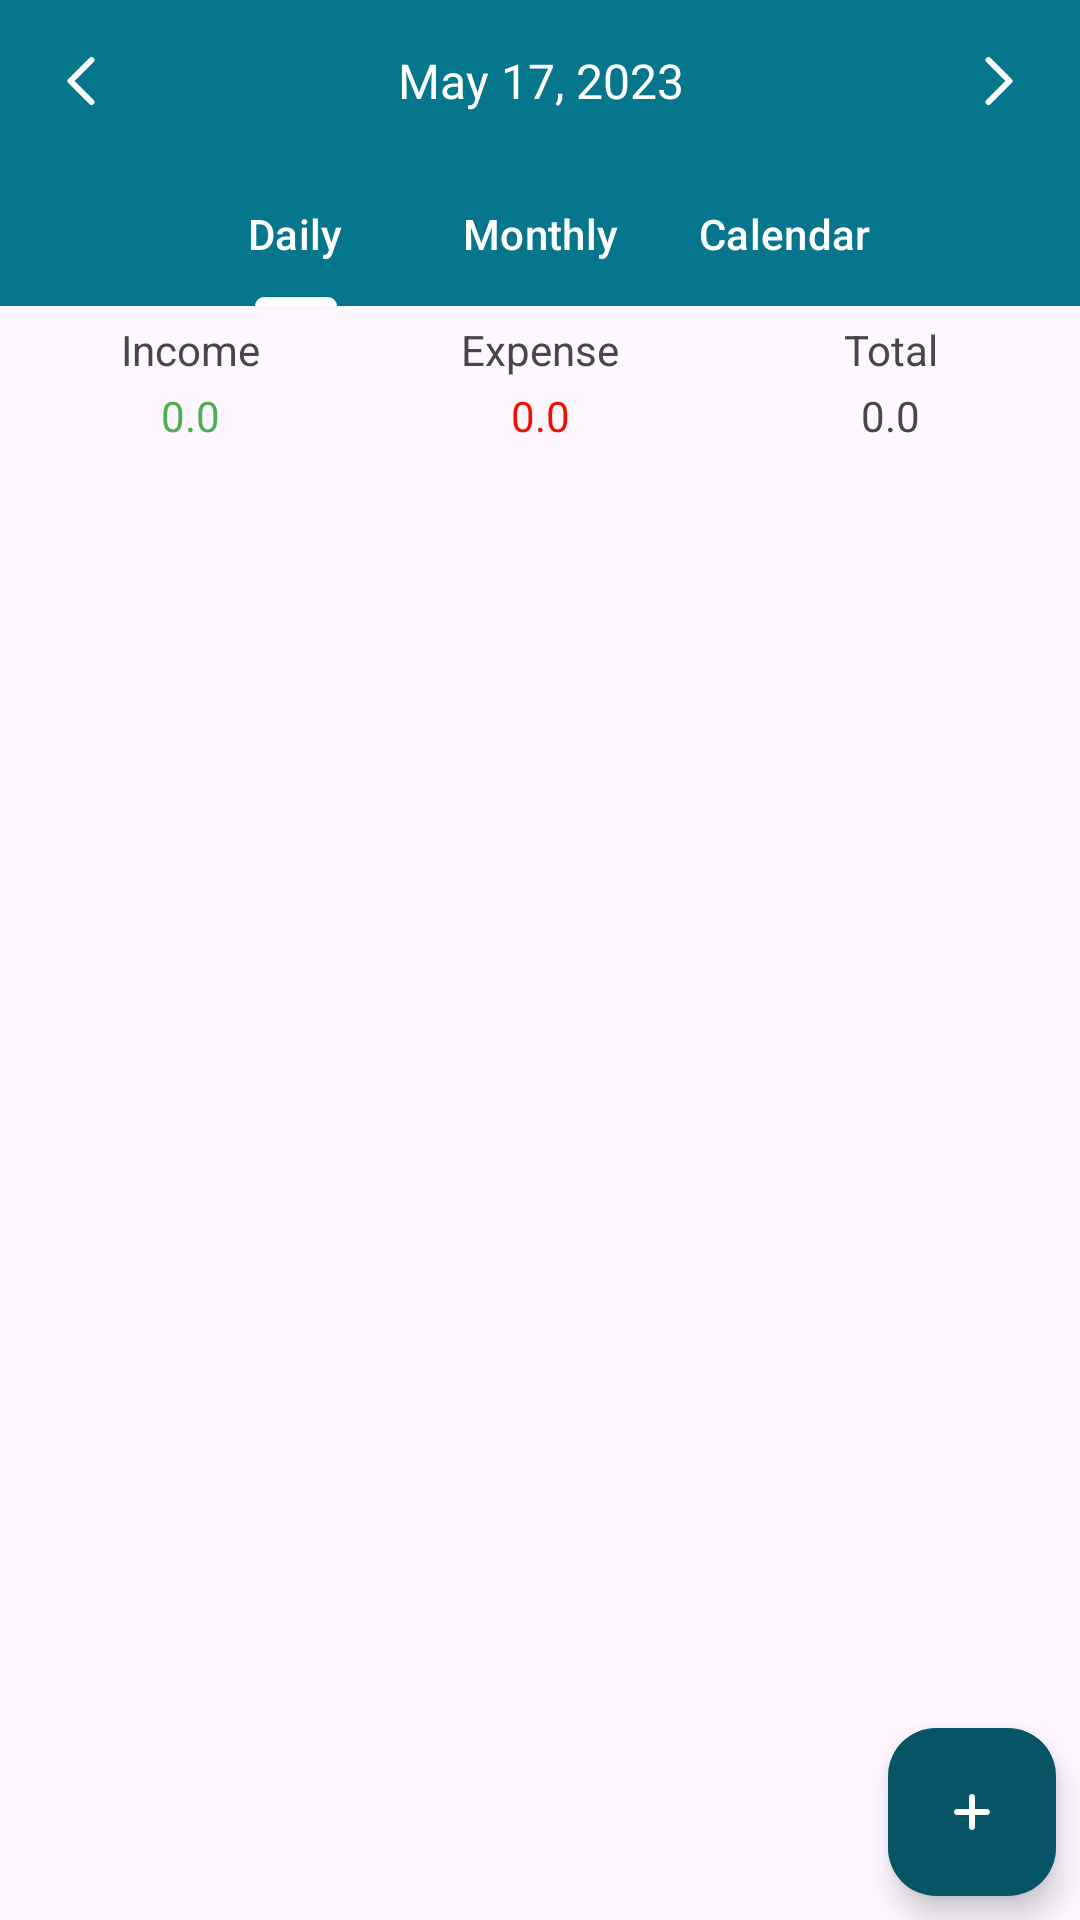

Locate icon controls on the screen. Image size 1080px x 1920px, boxes as (x1, y1, x2, y2).
plus: (888, 1728, 1056, 1896)
